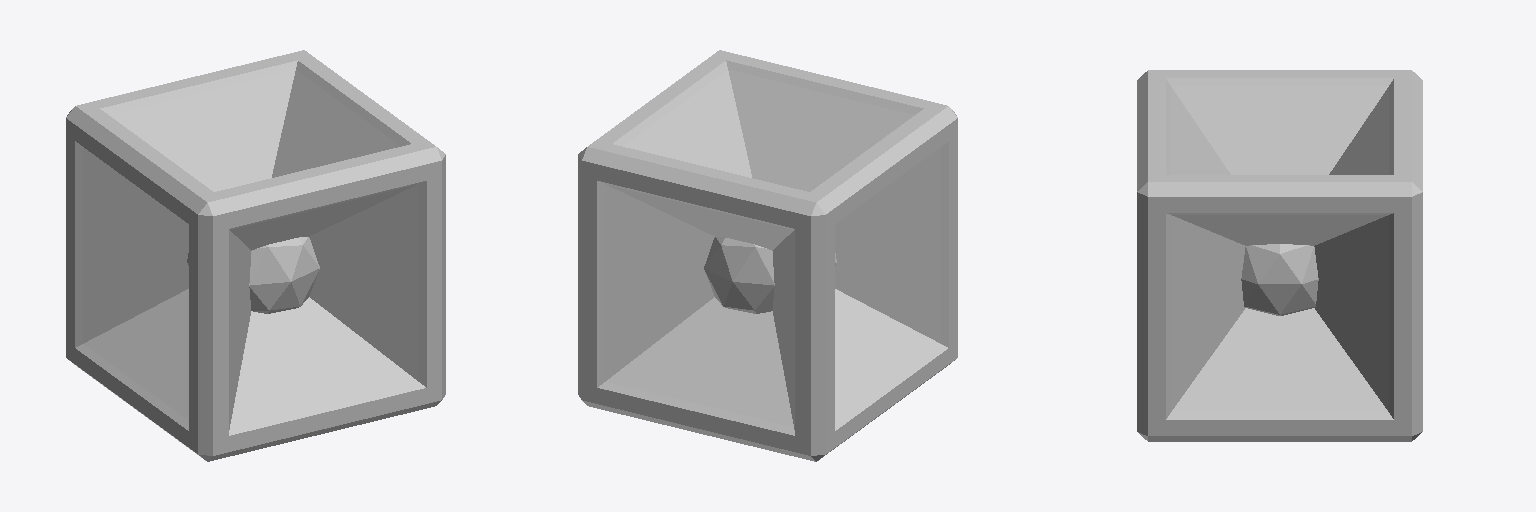
File: fant_laser_reciver.obj
3 renders of one model, left to right at view 1: azimuth 30°, elevation 25°; view 2: azimuth 150°, elevation 25°; view 3: azimuth 270°, elevation 25°, orthographic.
Parts seen in each view (by area): view 1: fant_laser_reciver; view 2: fant_laser_reciver; view 3: fant_laser_reciver.
Part boxes in pixels (bbox=[...]): fant_laser_reciver: bbox=[66, 50, 445, 461]; fant_laser_reciver: bbox=[578, 50, 957, 461]; fant_laser_reciver: bbox=[1137, 70, 1422, 441].
Bounding box in the file's own units: 1 × 1 × 1.